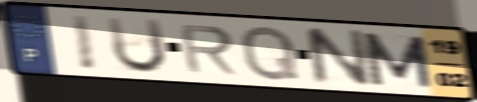I: (68, 13, 99, 72)
M: (357, 30, 436, 90)
N: (300, 26, 375, 88)
Q: (239, 23, 303, 83)
R: (176, 23, 241, 77)
U: (103, 15, 170, 76)
